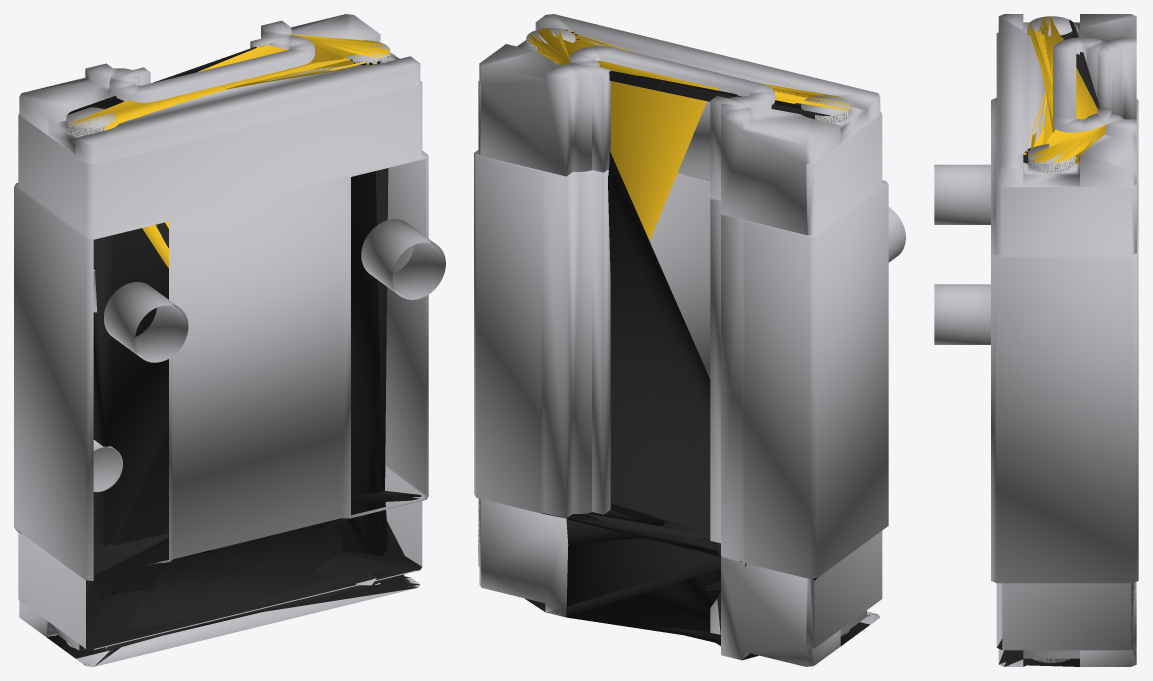
Rendered from finger.dae.
3 views of the same model, side by side, from view 1: azimuth 30°, elevation 25°; view 2: azimuth 150°, elevation 25°; view 3: azimuth 270°, elevation 25° (orthographic). The views are drawn at different scales.
Visible parts, largest first — view 1: node0, node1, node2; view 2: node0, node1, node2; view 3: node0, node2, node1.
Boxes of the visible parts, left/top/right/bottom form: node0: left=14, top=14, right=445, bottom=666; node1: left=15, top=46, right=421, bottom=666; node2: left=70, top=34, right=389, bottom=268; node0: left=474, top=14, right=905, bottom=666; node1: left=478, top=29, right=878, bottom=660; node2: left=526, top=28, right=850, bottom=240; node0: left=934, top=14, right=1138, bottom=666; node2: left=1023, top=16, right=1105, bottom=171; node1: left=997, top=19, right=1134, bottom=666.
Bounding box in the file's own units: 20 × 30 × 10.8.
